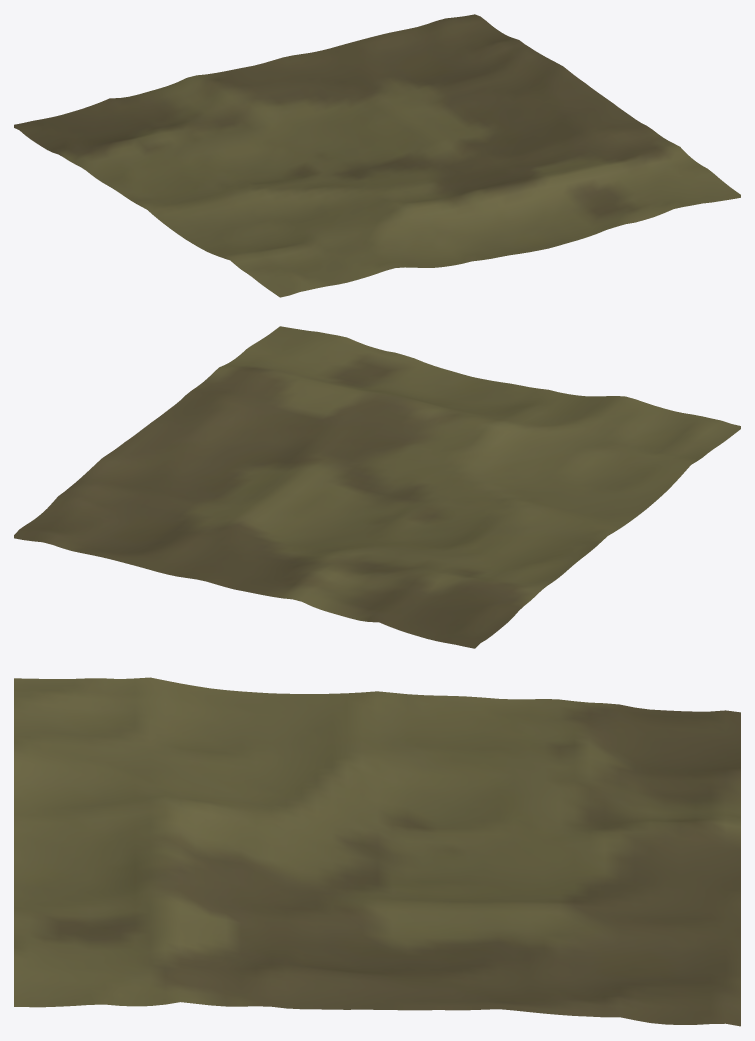
Rendered from land_m_12_05.glb.
The picture shows the model from 3 angles, top to bottom: view 1: azimuth 30°, elevation 25°; view 2: azimuth 150°, elevation 25°; view 3: azimuth 270°, elevation 25°; orthographic projection. The views are drawn at different scales.
Parts seen in each view (by area): view 1: land_m_12_05; view 2: land_m_12_05; view 3: land_m_12_05.
Part boxes in pixels (x1=…): land_m_12_05: x1=14, y1=14, x2=740, y2=297; land_m_12_05: x1=14, y1=326, x2=740, y2=648; land_m_12_05: x1=14, y1=677, x2=740, y2=1026.
Bounding box in the file's own units: 960 × 62.66 × 960.
